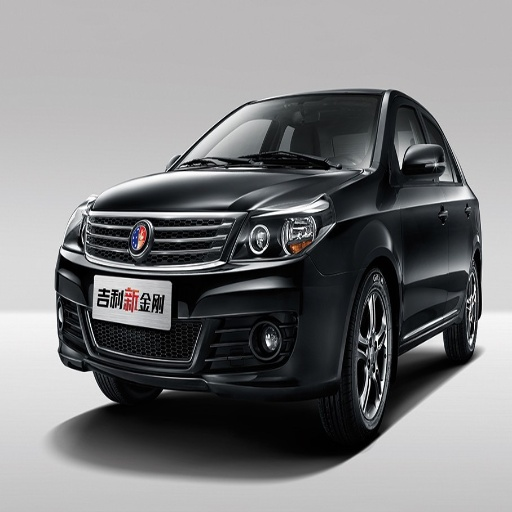front_bumper: (58, 209, 357, 402)
front_glass: (170, 94, 383, 171)
front_left_door: (384, 94, 449, 335)
